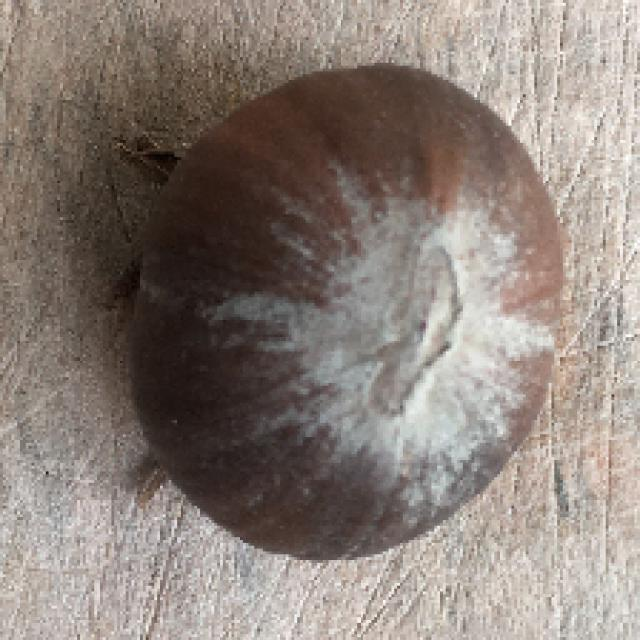damagedHazelnut: (154, 56, 568, 572)
